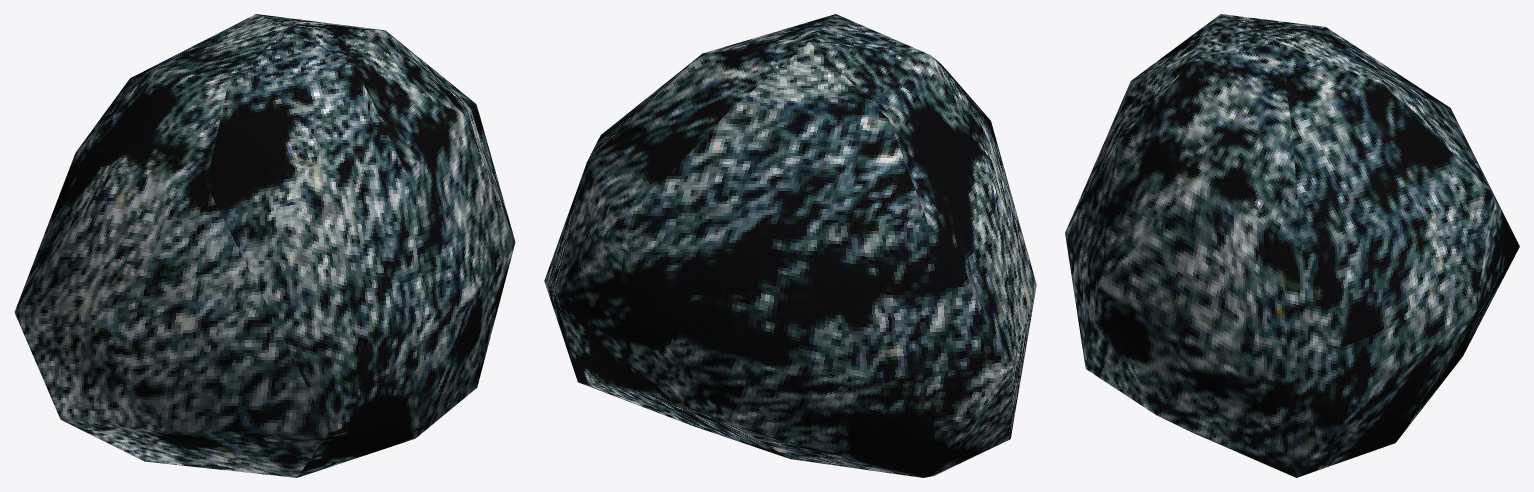
File: vfxMeteor.glb
The picture shows the model from 3 angles, left to right: view 1: azimuth 30°, elevation 25°; view 2: azimuth 150°, elevation 25°; view 3: azimuth 270°, elevation 25°; orthographic projection. The views are drawn at different scales.
Parts seen in each view (by area): view 1: Meteor; view 2: Meteor; view 3: Meteor.
Boxes of the visible parts, left/top/right/bottom form: Meteor: left=14, top=14, right=515, bottom=477; Meteor: left=544, top=14, right=1036, bottom=477; Meteor: left=1065, top=14, right=1519, bottom=477.
Bounding box in the file's own units: 2.71 × 2.25 × 2.46.
1 material, 1 textured.
